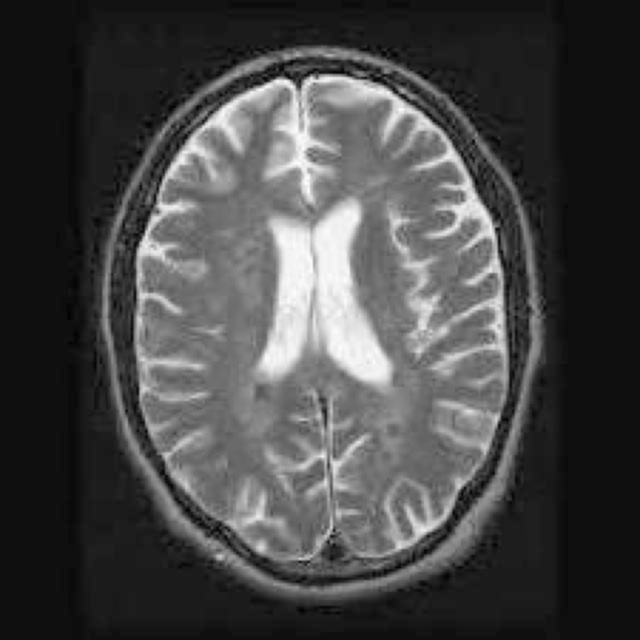glioma tumor: (199, 119, 492, 512)
